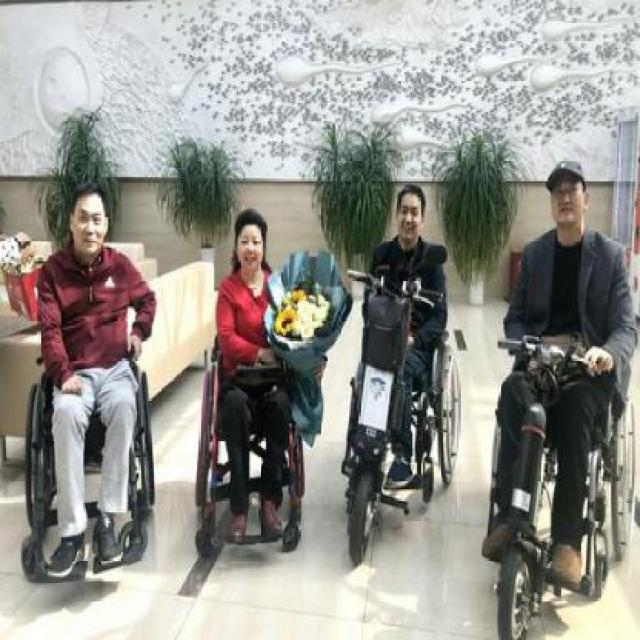peopleWithWheelchair: (481, 154, 639, 638), (30, 177, 158, 592), (338, 178, 465, 560), (186, 209, 314, 562)
